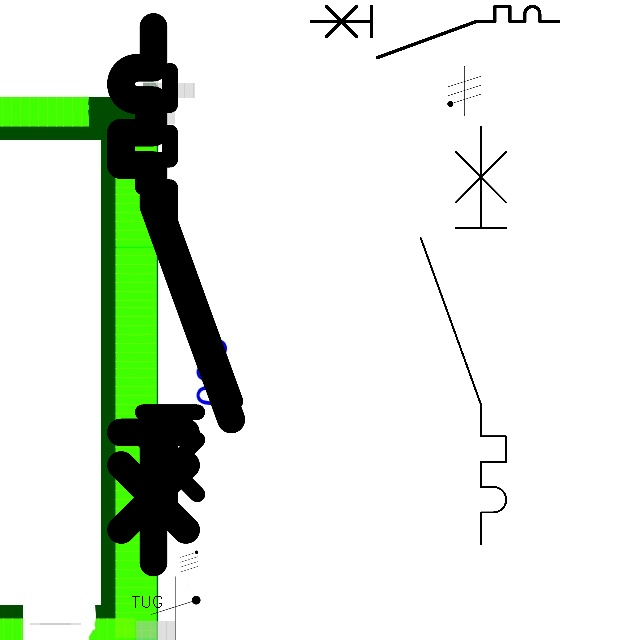interruptor_termomagnetico: (107, 13, 245, 576), (131, 59, 247, 534), (410, 115, 517, 555), (305, 0, 565, 63)
